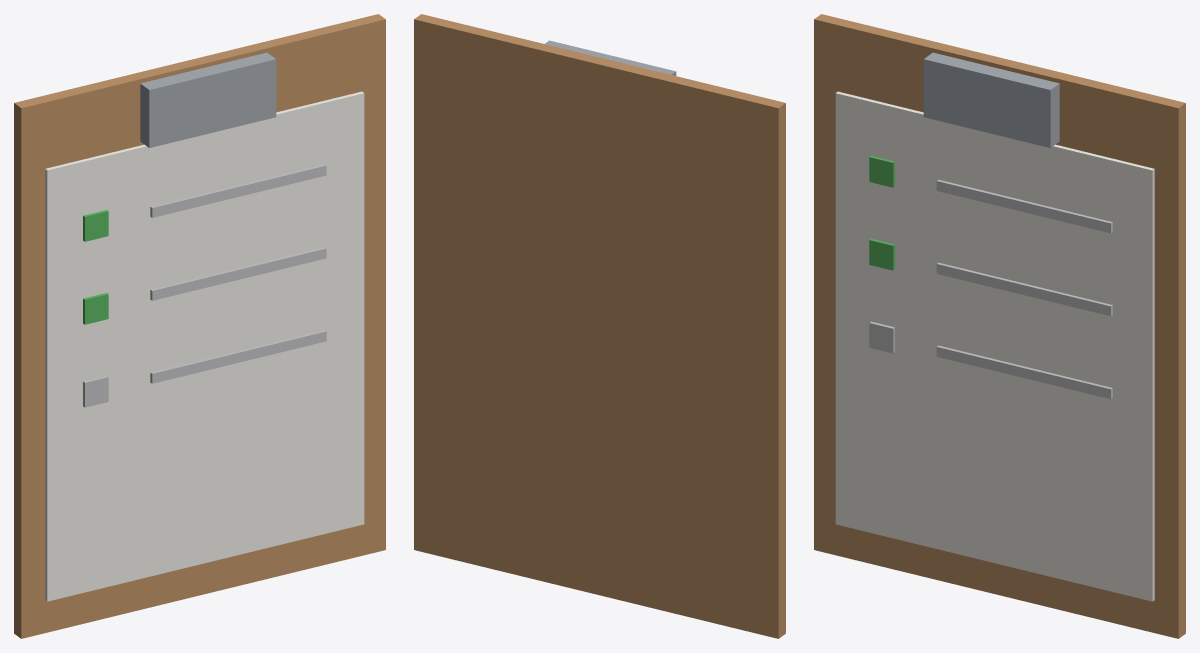
The model's file is clipboard.glb.
3 renders of one model, left to right at view 1: azimuth 30°, elevation 25°; view 2: azimuth 150°, elevation 25°; view 3: azimuth 330°, elevation 25°, orthographic.
Visible parts, largest first — view 1: clipboard; view 2: clipboard; view 3: clipboard.
Part boxes in pixels (x1,y1,x2,y2): clipboard: (14, 14, 385, 638); clipboard: (414, 14, 785, 638); clipboard: (814, 14, 1185, 638).
Bounding box in the file's own units: 0.23 × 0.32 × 0.018.
Materials: 1 (1 with a texture image).
